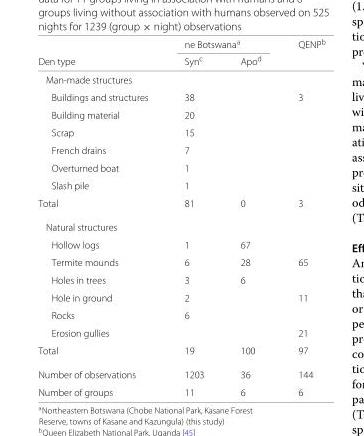table: (37, 36, 324, 397)
table column: (37, 36, 165, 397), (221, 36, 279, 397), (165, 36, 221, 397), (279, 36, 324, 397)
table column header: (37, 36, 324, 70)
table projected row header: (37, 214, 324, 235), (37, 70, 324, 88)
table row: (37, 193, 324, 214), (37, 214, 324, 235), (37, 341, 324, 362), (37, 362, 324, 382), (37, 51, 324, 70), (37, 70, 324, 88), (37, 105, 324, 123), (37, 123, 324, 141), (37, 158, 324, 176), (37, 235, 324, 253), (37, 270, 324, 288), (37, 288, 324, 306), (37, 323, 324, 341), (37, 88, 324, 105), (37, 141, 324, 158), (37, 176, 324, 193), (37, 253, 324, 270), (37, 306, 324, 323), (37, 36, 324, 51), (37, 382, 324, 397)
table spanning cell: (37, 36, 165, 70), (165, 36, 279, 51), (279, 36, 324, 70)
